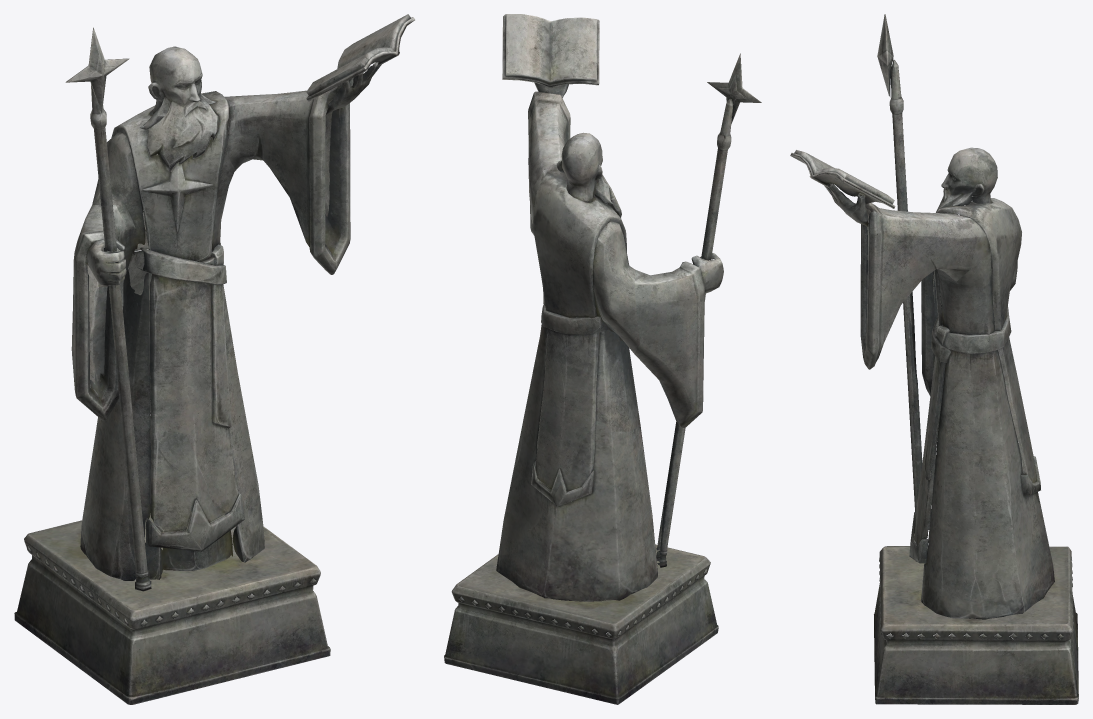
The picture shows the model from 3 angles, left to right: view 1: azimuth 30°, elevation 25°; view 2: azimuth 150°, elevation 25°; view 3: azimuth 270°, elevation 25°; orthographic projection. The views are drawn at different scales.
Visible parts, largest first — view 1: SM_SaradominTemple_Statue_01_v1_LOD0; view 2: SM_SaradominTemple_Statue_01_v1_LOD0; view 3: SM_SaradominTemple_Statue_01_v1_LOD0.
Part boxes in pixels (x1,y1,x2,y2): SM_SaradominTemple_Statue_01_v1_LOD0: (14, 14, 414, 704); SM_SaradominTemple_Statue_01_v1_LOD0: (444, 14, 761, 704); SM_SaradominTemple_Statue_01_v1_LOD0: (790, 14, 1078, 704).
Bounding box in the file's own units: 8.22 × 16.5 × 7.29.
6 materials, 6 textured.
